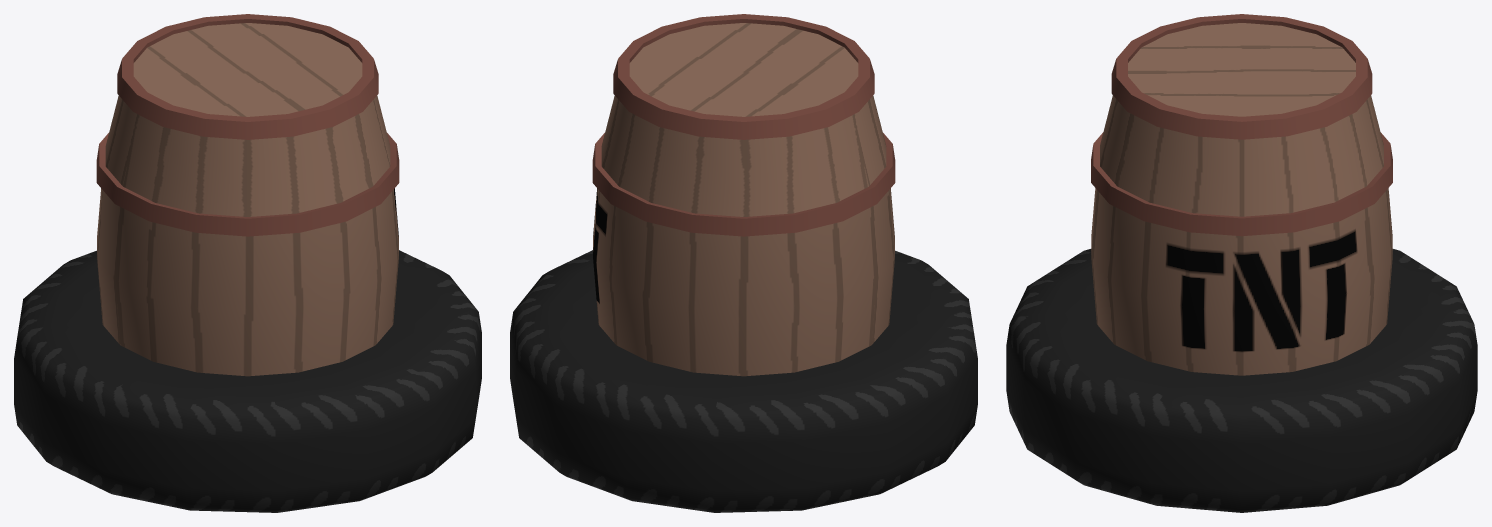
The model's file is deco_obstacles_01.FBX.
3 views of the same model, side by side, from view 1: azimuth 30°, elevation 25°; view 2: azimuth 150°, elevation 25°; view 3: azimuth 270°, elevation 25° (orthographic).
Visible parts, largest first — view 1: msh_barrel_01, msh_pneu_01; view 2: msh_barrel_01, msh_pneu_01; view 3: msh_barrel_01, msh_pneu_01.
Part boxes in pixels (<box>): msh_barrel_01: <box>96,14,399,376</box>; msh_pneu_01: <box>14,250,481,512</box>; msh_barrel_01: <box>592,14,895,376</box>; msh_pneu_01: <box>510,250,977,512</box>; msh_barrel_01: <box>1091,14,1392,375</box>; msh_pneu_01: <box>1006,249,1477,512</box>.
Size of the model in its own units: 158 by 133 by 158.
